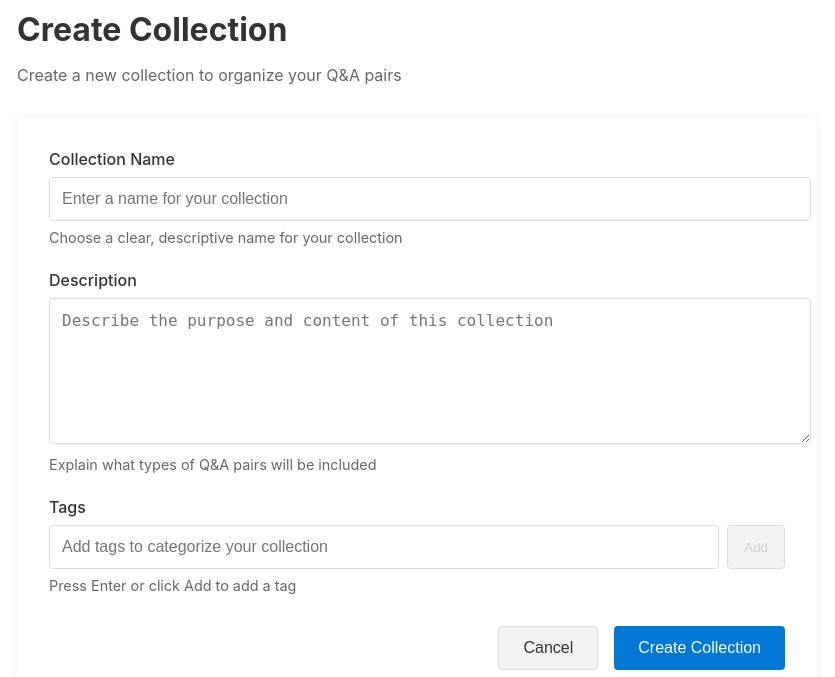
Test: Collection Creation › validates required fields
Click the button "Create Collection" at x=700, y=648, box [614,626,785,670]
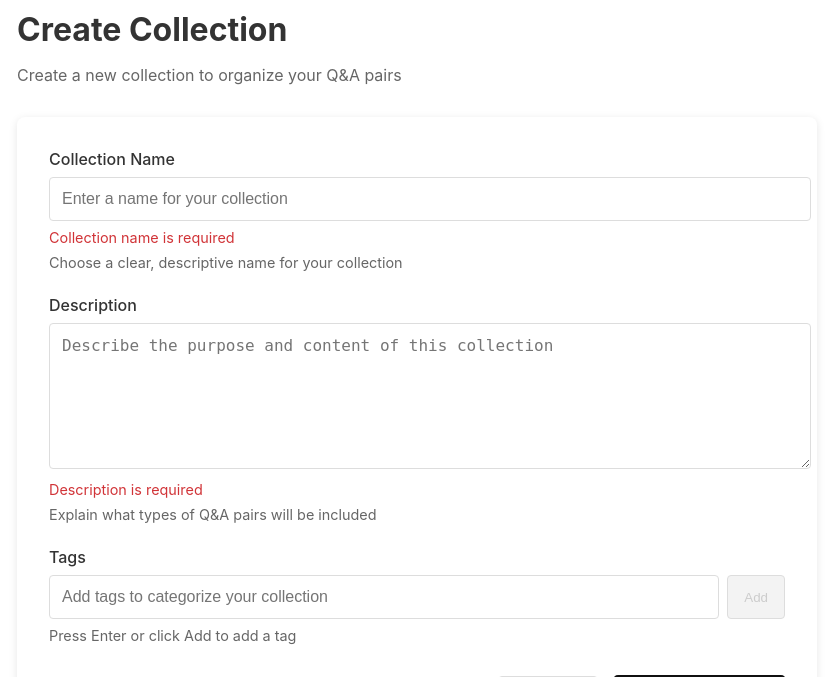
Now the text "Collection name is required" is shown, box [49,229,235,246]
